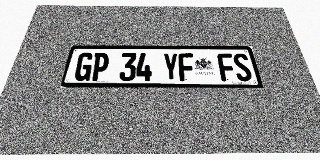3: (119, 53, 137, 81)
4: (136, 53, 152, 81)
F: (217, 53, 237, 81), (178, 53, 195, 81)
G: (73, 53, 94, 81)
P: (90, 53, 110, 81)
S: (232, 53, 253, 81)
Y: (163, 53, 179, 81)
